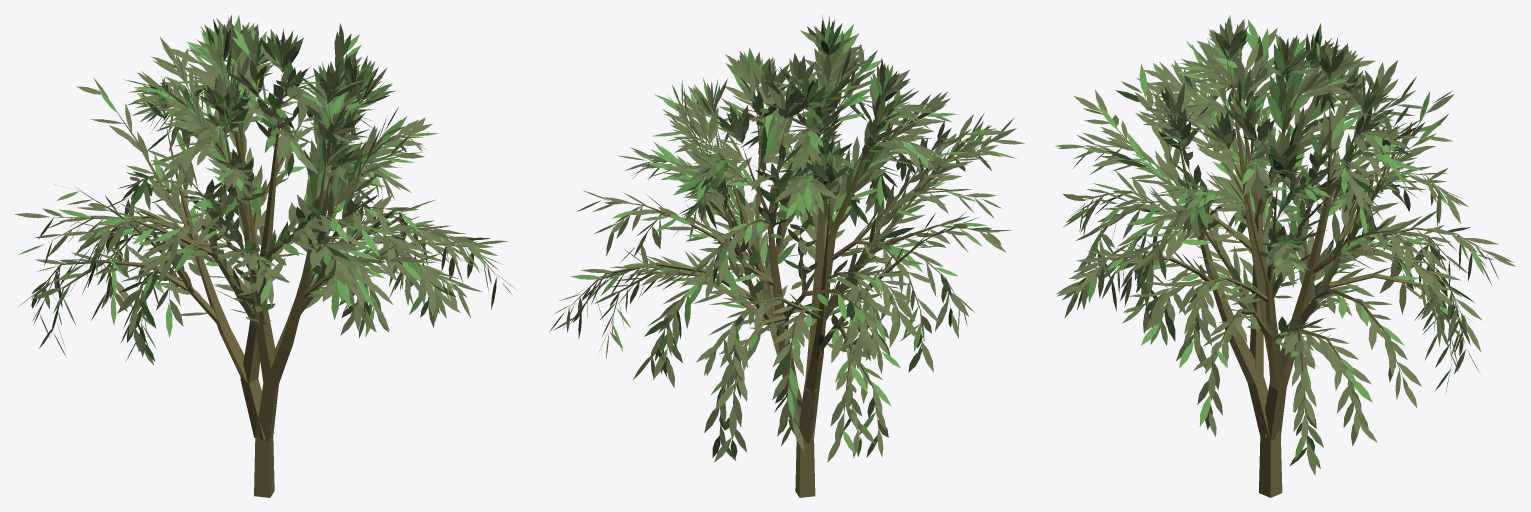
File: arvore0.fbx
3 renders of one model, left to right at view 1: azimuth 30°, elevation 25°; view 2: azimuth 150°, elevation 25°; view 3: azimuth 270°, elevation 25°, orthographic. The views are drawn at different scales.
Visible parts, largest first — view 1: leaves; view 2: leaves; view 3: leaves.
Boxes of the visible parts, x1=… form: leaves: x1=15, y1=15, x2=517, y2=497; leaves: x1=549, y1=15, x2=1024, y2=497; leaves: x1=1055, y1=15, x2=1515, y2=497.
Size of the model in its own units: 791 by 851 by 756.
